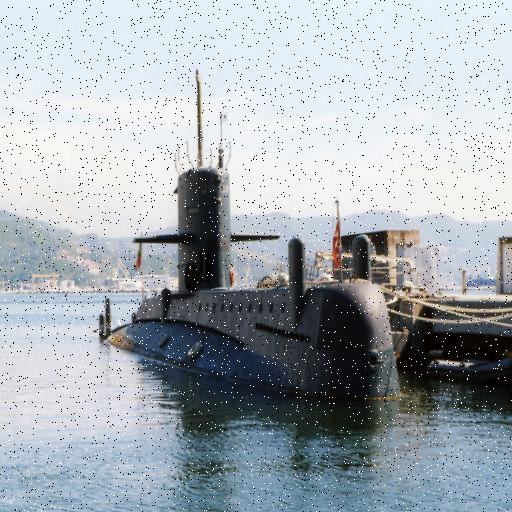submarine: (99, 69, 408, 401)
